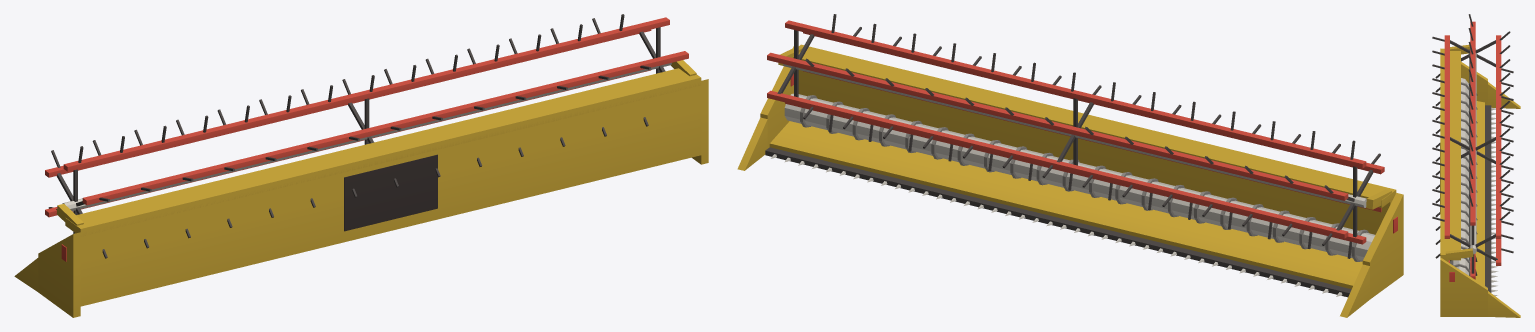
The model's file is header_grain.glb.
3 views of the same model, side by side, from view 1: azimuth 30°, elevation 25°; view 2: azimuth 150°, elevation 25°; view 3: azimuth 270°, elevation 25° (orthographic). The views are drawn at different scales.
Parts seen in each view (by area): view 1: header_grain, reel; view 2: header_grain, reel; view 3: header_grain, reel.
Part boxes in pixels (x1,y1,x2,y2): header_grain: (14, 60, 708, 317); reel: (45, 14, 688, 258); header_grain: (737, 44, 1403, 317); reel: (767, 14, 1384, 258); header_grain: (1440, 44, 1520, 317); reel: (1432, 14, 1513, 279).
Size of the model in its own units: 8.42 by 1.89 by 1.48.
Materials: 2 (2 with a texture image).
